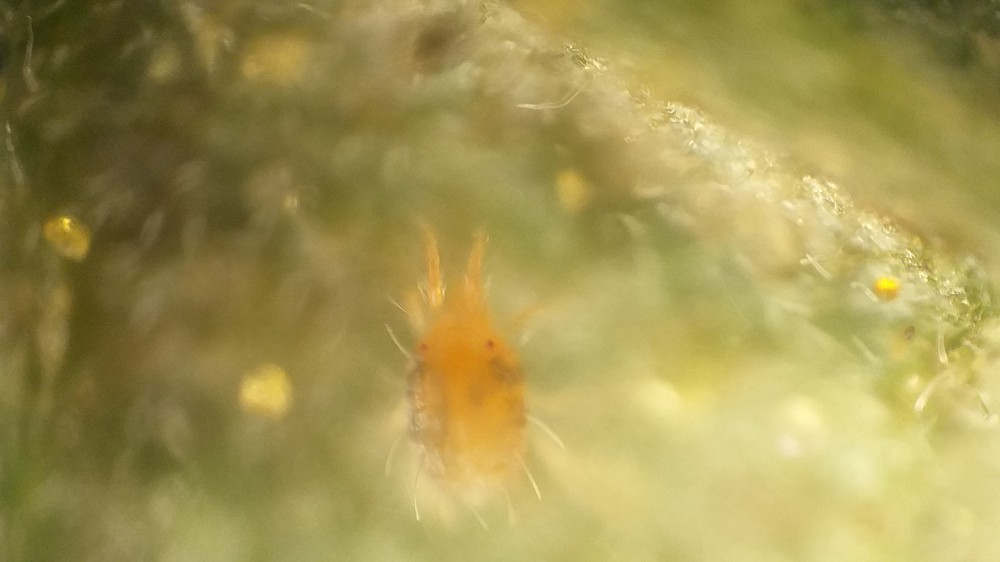Aracnido Rojo: (329, 213, 610, 548)
